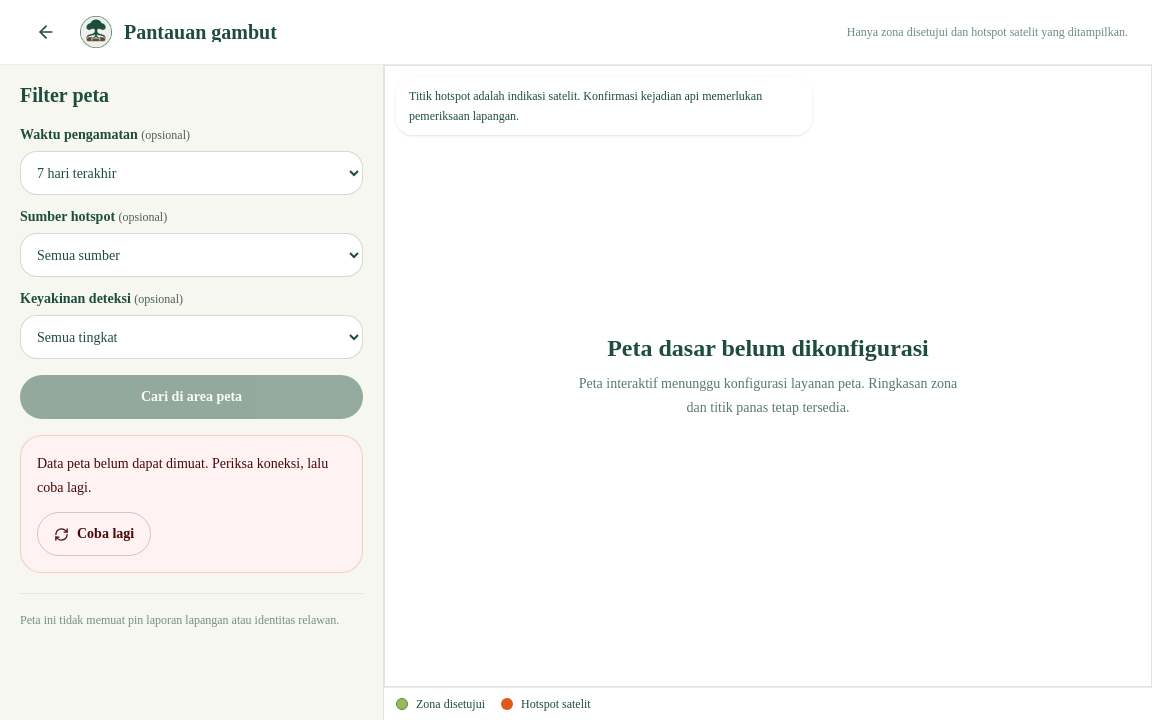
Scenario: shows a retry action for API failure and recovers after retry
Expected: the message "Data peta belum dapat dimuat. Periksa koneksi, lalu coba lagi. Coba lagi" is shown, [20,435,363,573]
Click the button "Coba lagi": (94, 534) [37,512,151,556]
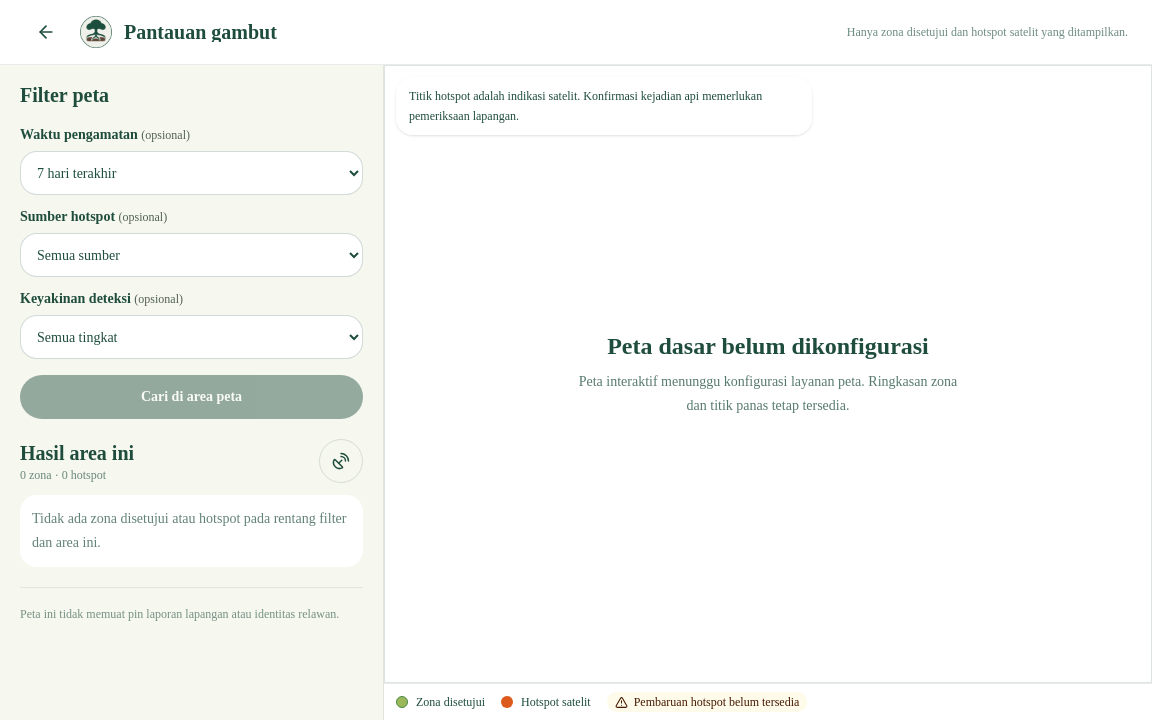
Result: the text "Tidak ada zona disetujui atau hotspot pada rentang filter dan area ini." is shown at [20,495,363,567]
